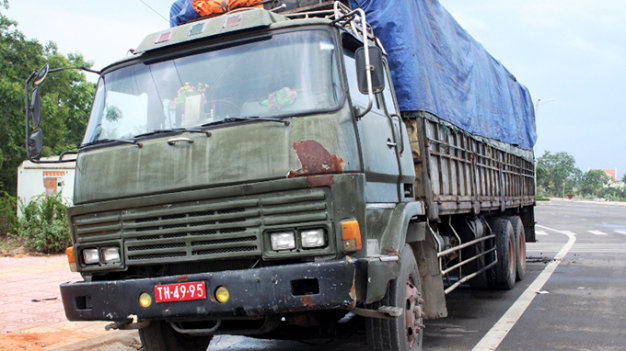plate: (153, 281, 208, 303)
